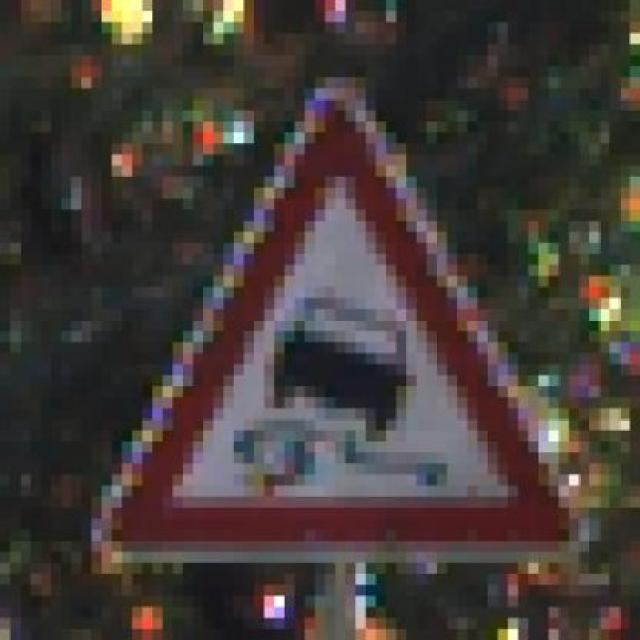Slippery Road Ahead: (71, 66, 589, 563)
